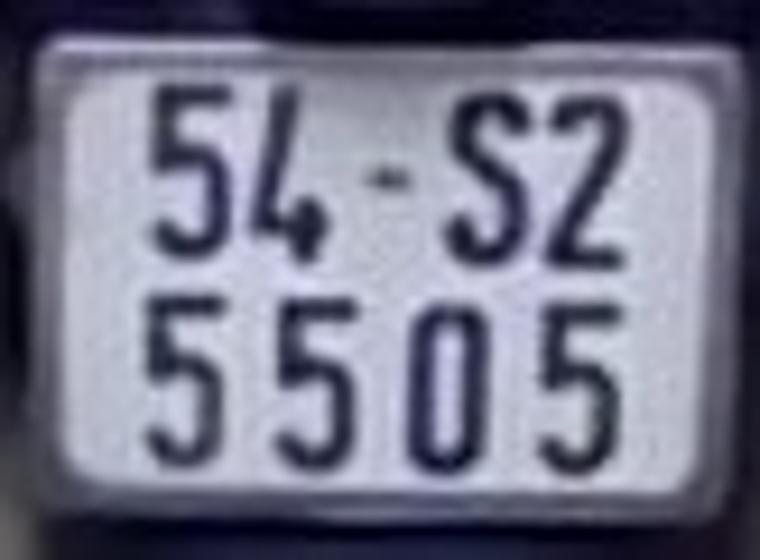-: (357, 160, 427, 205)
0: (404, 290, 502, 479)
2: (548, 81, 639, 281)
4: (250, 82, 342, 269)
5: (267, 296, 379, 471), (532, 300, 638, 476), (144, 78, 240, 264), (138, 282, 226, 475)
S: (440, 87, 536, 271)
